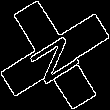N_NE: (23, 25, 87, 85)
